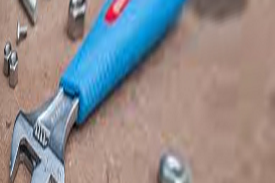wrench: (12, 1, 168, 183)
